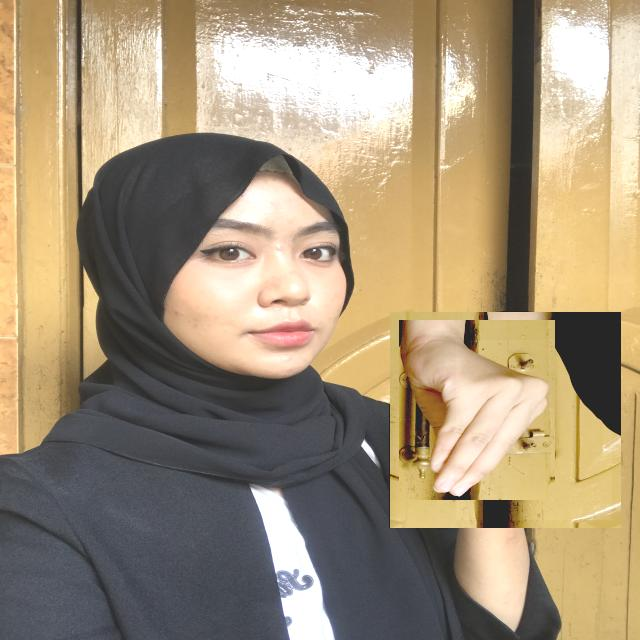berapa: (456, 340, 612, 520)
kapan: (389, 311, 621, 528)
